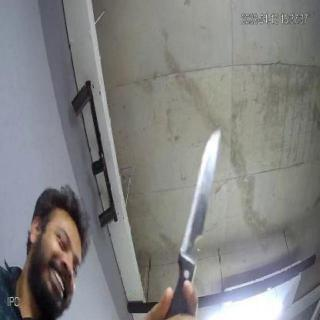knife: (182, 128, 222, 284)
